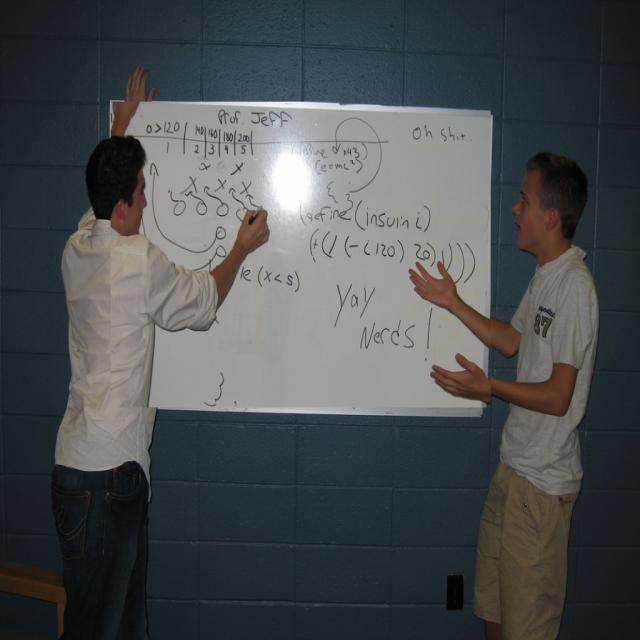Whiteboard: (107, 98, 493, 418)
